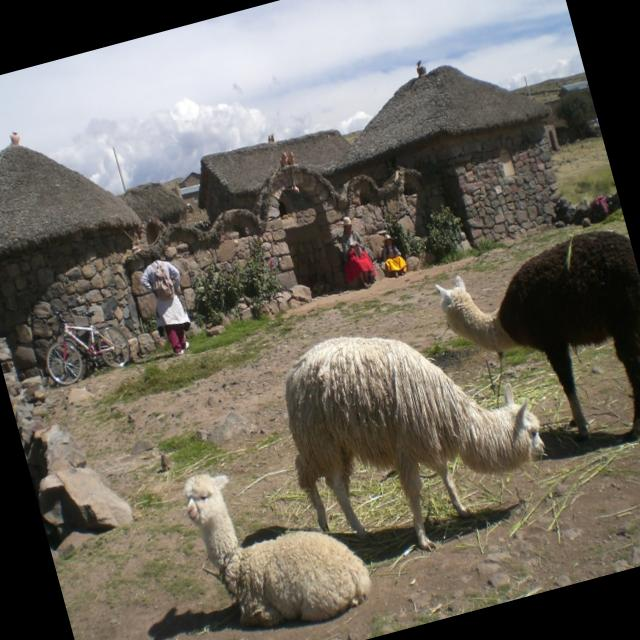alpaca: (263, 291, 566, 581), (428, 223, 640, 481), (179, 438, 379, 640)
